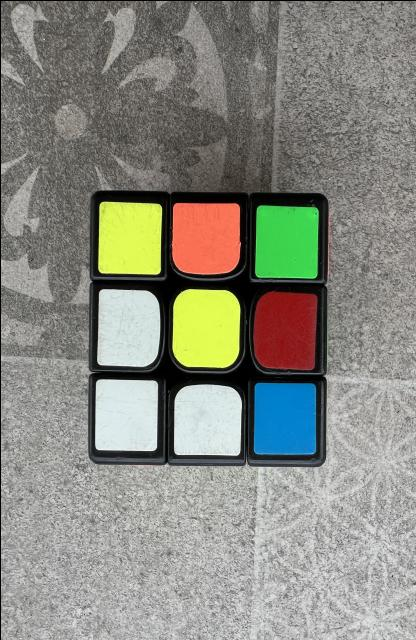Blue: (252, 381, 315, 454)
Green: (255, 204, 317, 278)
Orange: (171, 202, 240, 274)
Red: (252, 290, 316, 369)
White: (172, 384, 242, 455), (96, 289, 159, 366), (94, 379, 157, 450)
Yellow: (171, 288, 239, 368), (98, 201, 161, 274)
